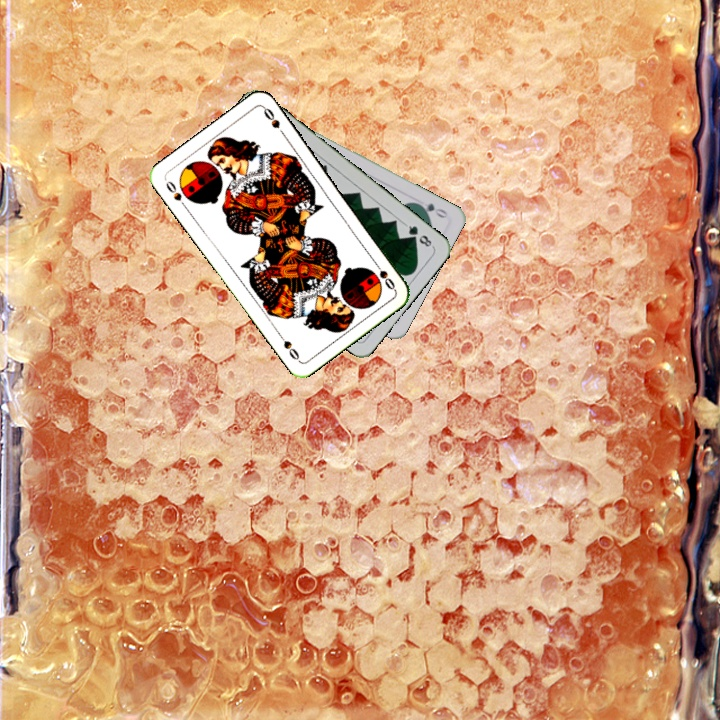G8: (401, 220, 436, 250)
GO: (411, 199, 450, 221)
SO: (369, 257, 398, 292), (162, 176, 190, 211)
